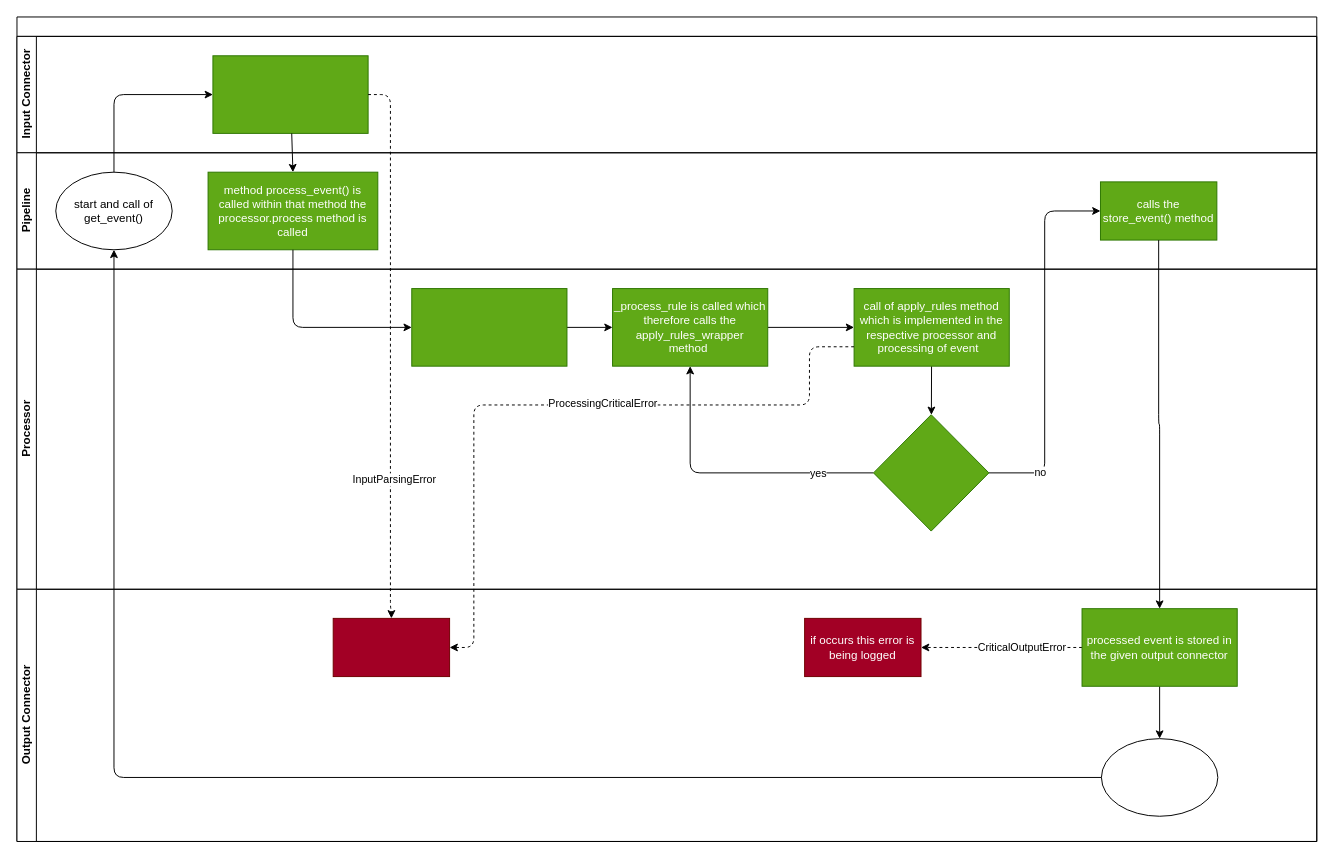
Image size: 1334x858. Some labels were removed from this diagram. Each missing label, with the centre of its shape:
"apply multiple times?" belongs at point 931,472.
"event processed" belongs at point 1159,777.
"failed event is stored in list of outputs" belongs at point 391,647.
"method _process_ruletree_multiple _times / _process_ruletree_once is called" belongs at point 489,327.
"with call of get_event() handed over to pipeline for processing" belongs at point 290,94.
